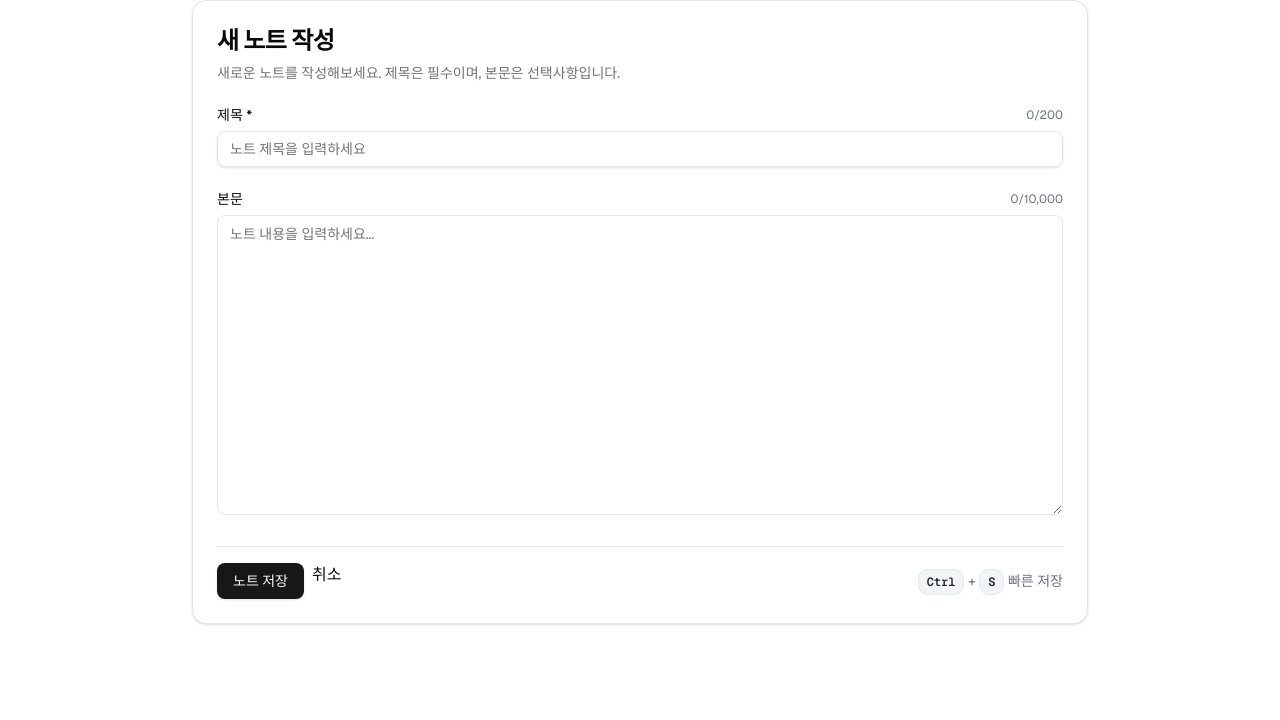
NoteForm › handles server error
Type "테스트 제목" into the field labelled "제목 *".
click(640, 149); type("테스트 제목")  # box [217,131,1063,167]
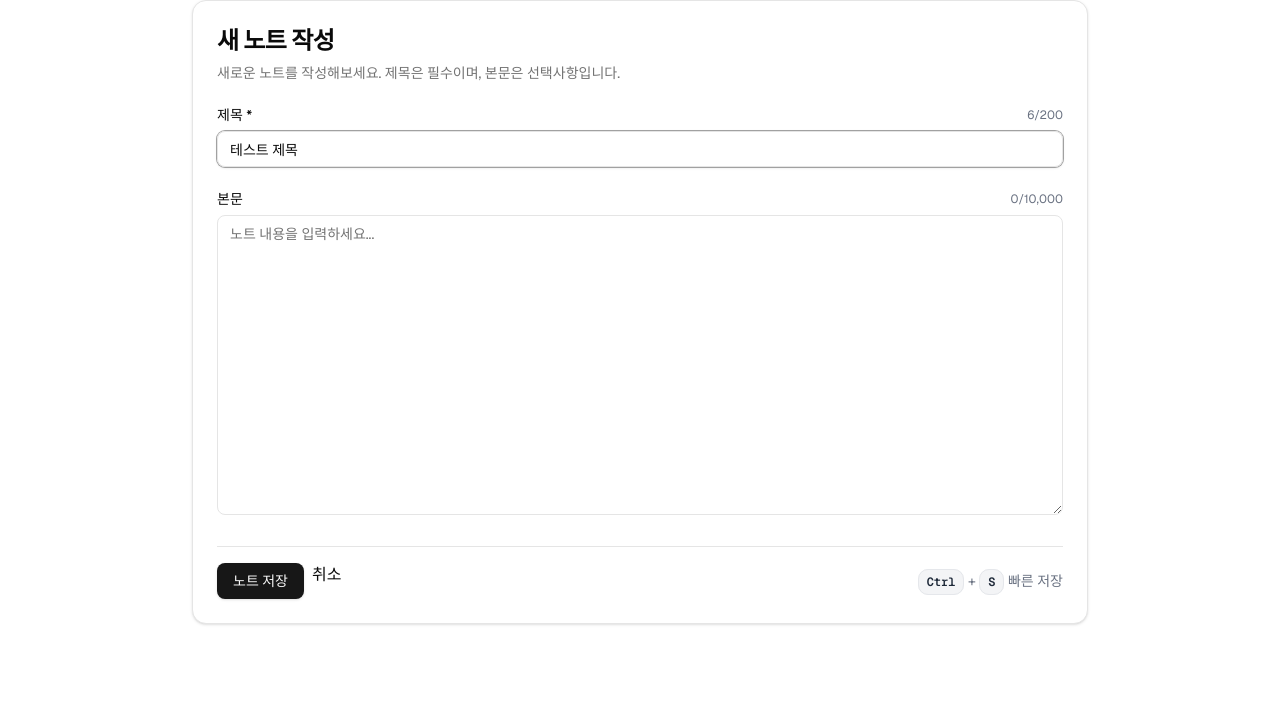
Click the button "노트 저장".
click(260, 581)  # box [217,563,304,599]
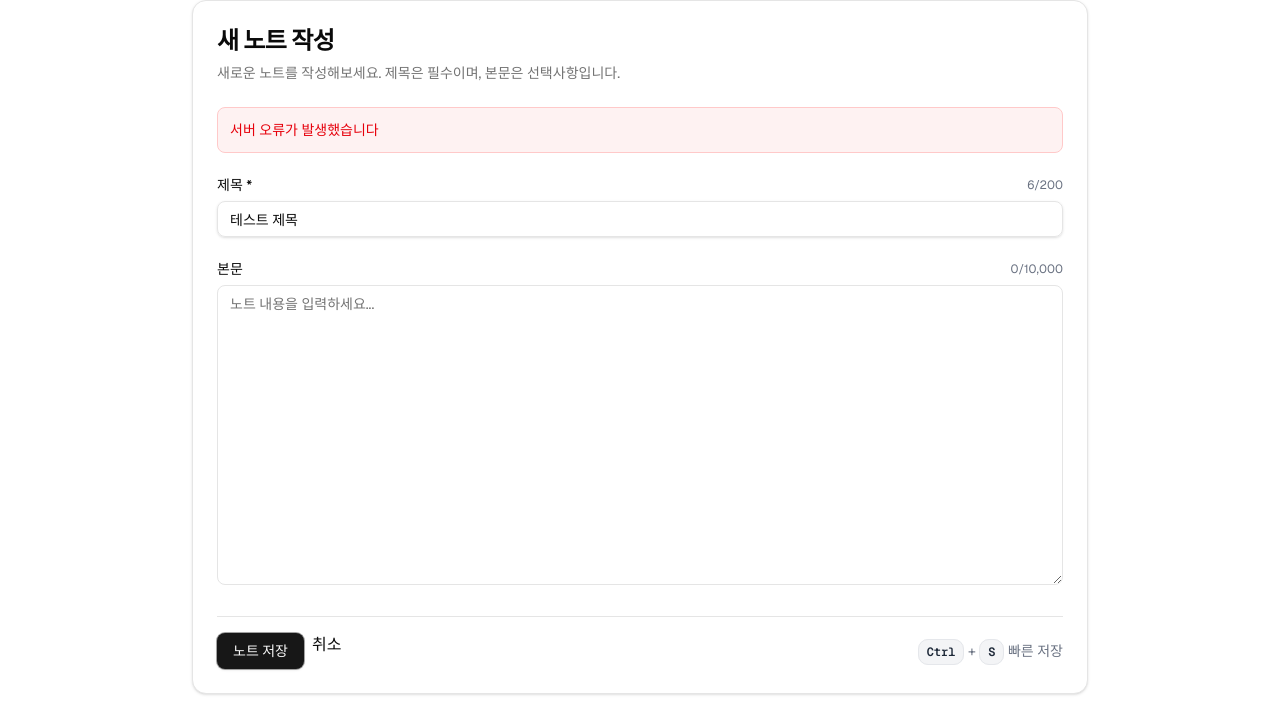
Now the text "서버 오류가 발생했습니다" is shown, box [217,107,1063,153]
